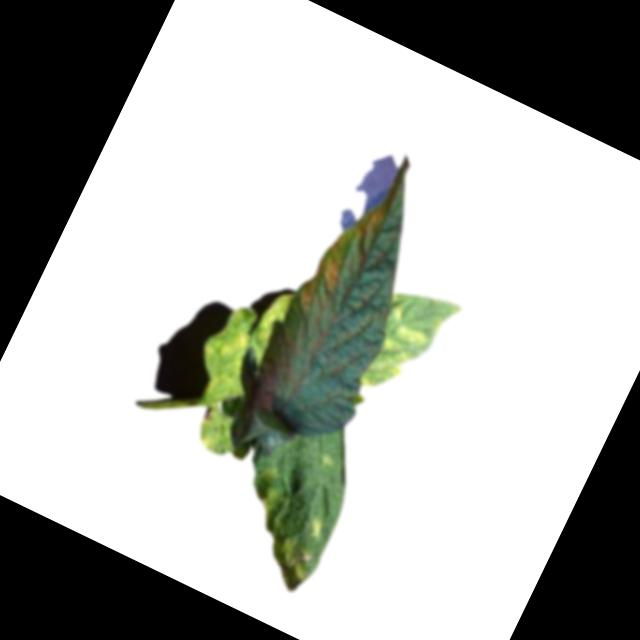Leaf_Mold: (219, 463, 348, 597), (183, 272, 296, 417), (353, 292, 442, 404), (295, 240, 359, 322), (353, 198, 392, 246)
